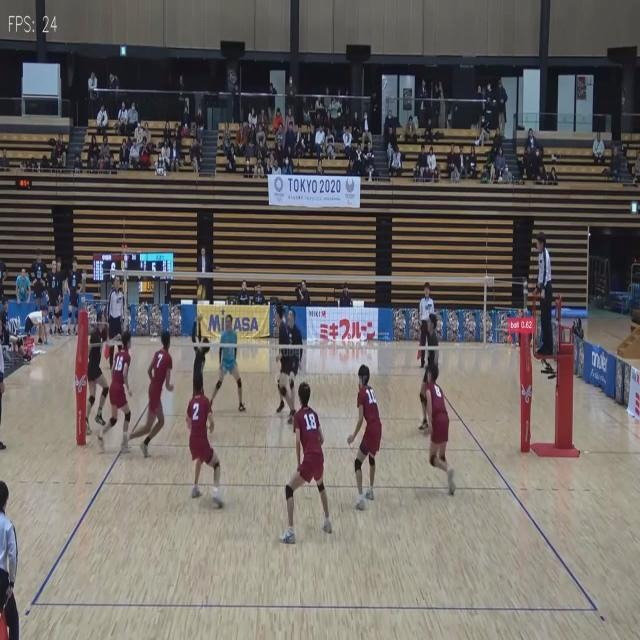volleyball: (198, 284, 206, 299)
